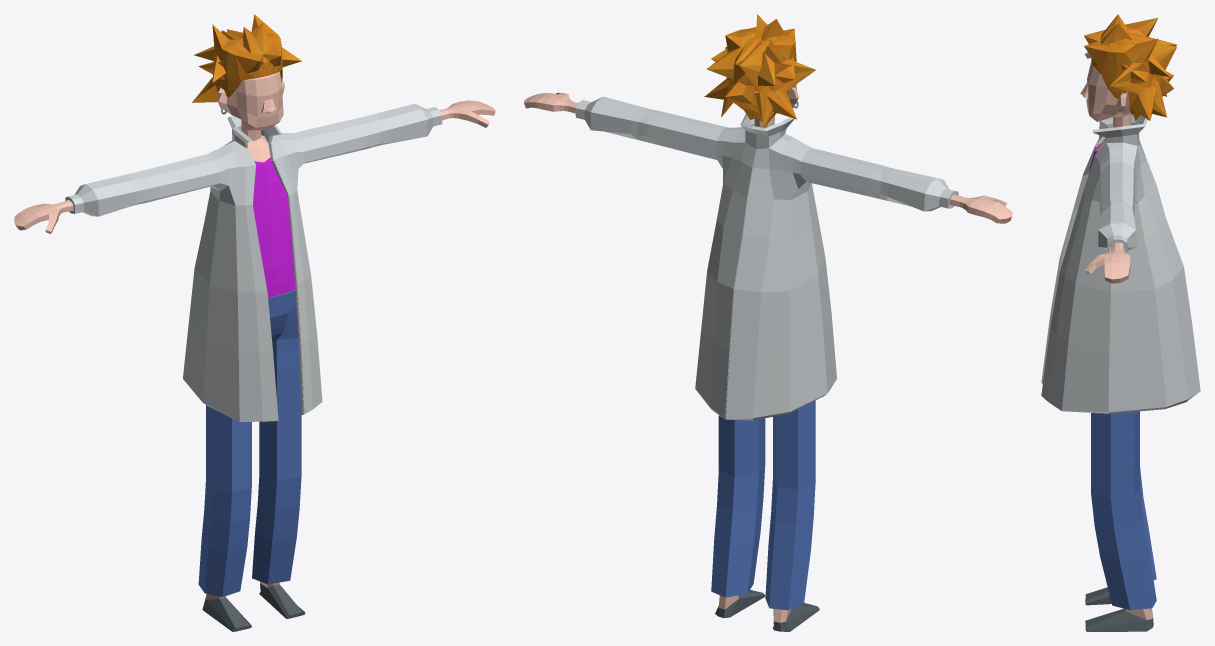
Rendered from laborant_11.fbx.
The picture shows the model from 3 angles, left to right: view 1: azimuth 30°, elevation 25°; view 2: azimuth 150°, elevation 25°; view 3: azimuth 270°, elevation 25°; orthographic projection.
Parts seen in each view (by area): view 1: laborant.011; view 2: laborant.011; view 3: laborant.011.
Part boxes in pixels (x1,y1,x2,y2): laborant.011: (14, 14, 495, 631); laborant.011: (524, 14, 1012, 631); laborant.011: (1041, 14, 1200, 631).
Size of the model in its own units: 148 by 174 by 42.3.
